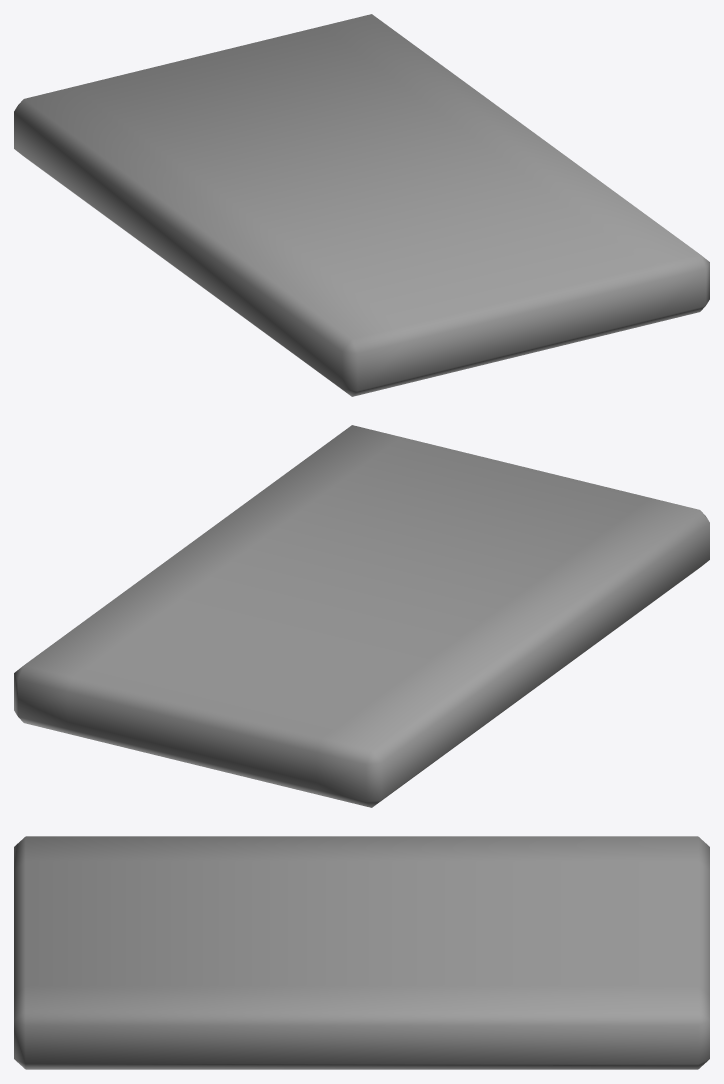
Rendered from Dollar.fbx.
3 views of the same model, one above another, from view 1: azimuth 30°, elevation 25°; view 2: azimuth 150°, elevation 25°; view 3: azimuth 270°, elevation 25° (orthographic). The views are drawn at different scales.
Parts seen in each view (by area): view 1: Plane; view 2: Plane; view 3: Plane.
Boxes of the visible parts, x1,y1,x2,y2 form: Plane: (14, 14, 709, 396); Plane: (14, 425, 709, 807); Plane: (14, 836, 709, 1069).
Bounding box in the file's own units: 2.4 × 0.3598 × 3.84.
